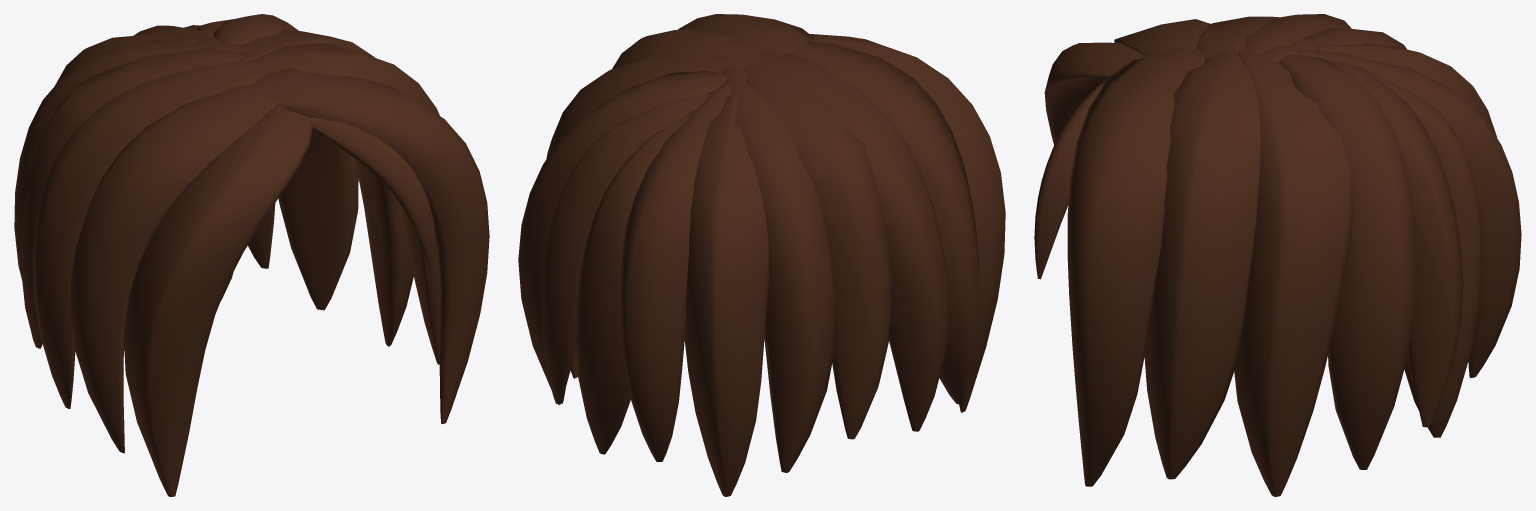
3 renders of one model, left to right at view 1: azimuth 30°, elevation 25°; view 2: azimuth 150°, elevation 25°; view 3: azimuth 270°, elevation 25°, orthographic. The views are drawn at different scales.
Parts seen in each view (by area): view 1: hairMediumStraight; view 2: hairMediumStraight; view 3: hairMediumStraight.
Part boxes in pixels (x1,y1,x2,y2): hairMediumStraight: (14, 14, 489, 496); hairMediumStraight: (518, 14, 1005, 496); hairMediumStraight: (1034, 14, 1521, 496).
Bounding box in the file's own units: 0.5159 × 0.4607 × 0.5269.
Materials: 1 (1 with a texture image).
